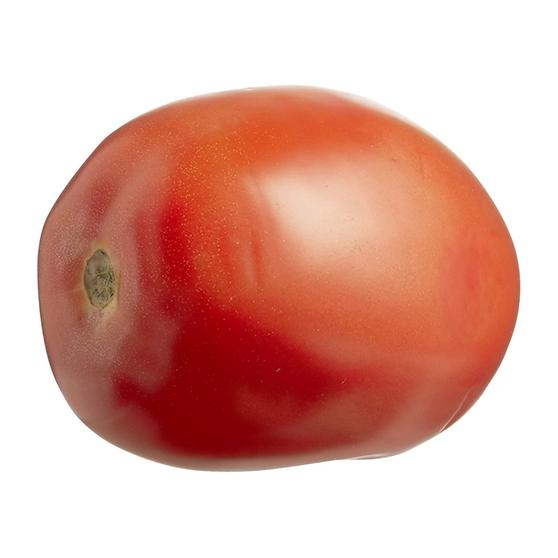tomato: (34, 84, 525, 475)
